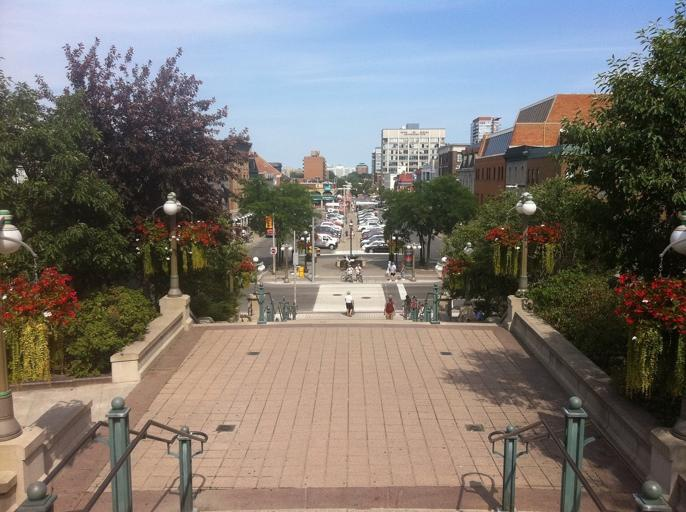non-vehicle: (338, 271, 352, 282), (354, 272, 362, 282)
